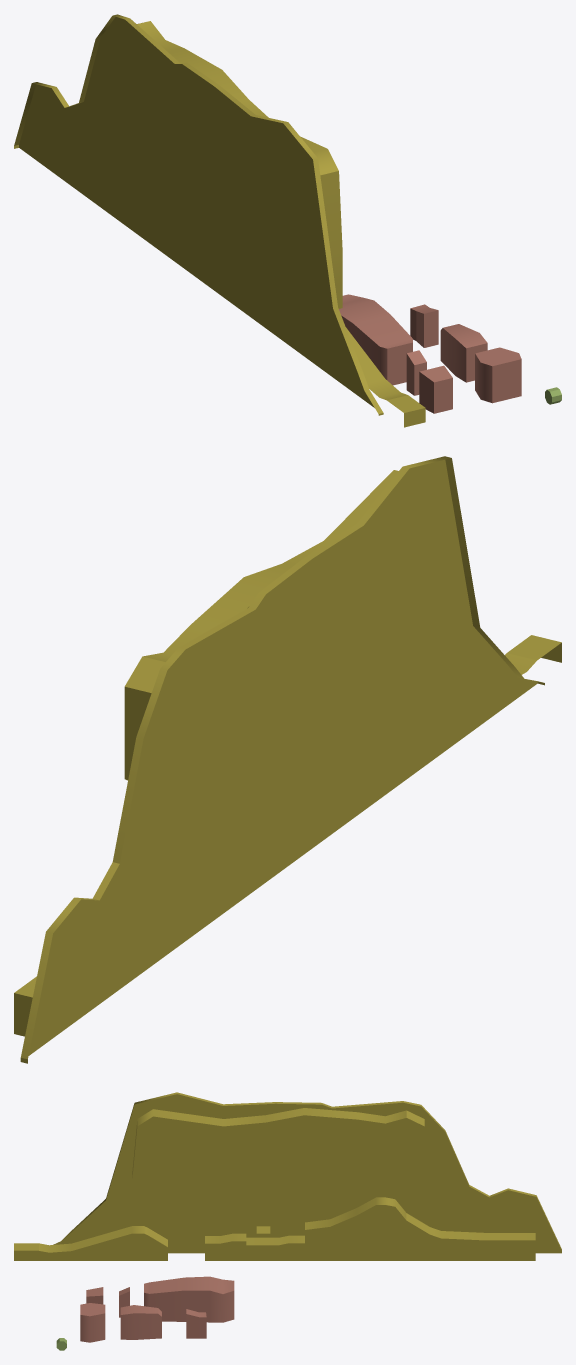
The model's file is Side Scroller Vertical Slice 2 Assets v1.fbx.
3 views of the same model, one above another, from view 1: azimuth 30°, elevation 25°; view 2: azimuth 150°, elevation 25°; view 3: azimuth 270°, elevation 25° (orthographic). The views are drawn at different scales.
Parts seen in each view (by area): view 1: polySurface20, polySurface19, polySurface26, polySurface27, polySurface28, polySurface22, polySurface24, polySurface29, polySurface25; view 2: polySurface20, polySurface19, polySurface22, polySurface21; view 3: polySurface20, polySurface19, polySurface21, polySurface22, polySurface26, polySurface28, polySurface27, polySurface29.
Part boxes in pixels (x1=…): polySurface20: x1=14, y1=14, x2=383, y2=415; polySurface19: x1=137, y1=21, x2=342, y2=308; polySurface26: x1=339, y1=294, x2=412, y2=385; polySurface27: x1=475, y1=347, x2=521, y2=403; polySurface28: x1=440, y1=324, x2=487, y2=382; polySurface22: x1=346, y1=327, x2=425, y2=427; polySurface24: x1=419, y1=365, x2=452, y2=413; polySurface29: x1=410, y1=304, x2=438, y2=347; polySurface25: x1=406, y1=350, x2=426, y2=395; polySurface20: x1=20, y1=456, x2=544, y2=1063; polySurface19: x1=124, y1=470, x2=398, y2=780; polySurface22: x1=505, y1=635, x2=561, y2=674; polySurface21: x1=14, y1=976, x2=36, y2=1036; polySurface20: x1=53, y1=1092, x2=561, y2=1253; polySurface19: x1=132, y1=1108, x2=424, y2=1222; polySurface21: x1=205, y1=1197, x2=535, y2=1260; polySurface22: x1=14, y1=1226, x2=167, y2=1260; polySurface26: x1=144, y1=1276, x2=234, y2=1322; polySurface28: x1=120, y1=1305, x2=161, y2=1339; polySurface27: x1=80, y1=1303, x2=105, y2=1342; polySurface29: x1=186, y1=1309, x2=206, y2=1338.
Size of the model in its own units: 38.45 by 50.3 by 131.
